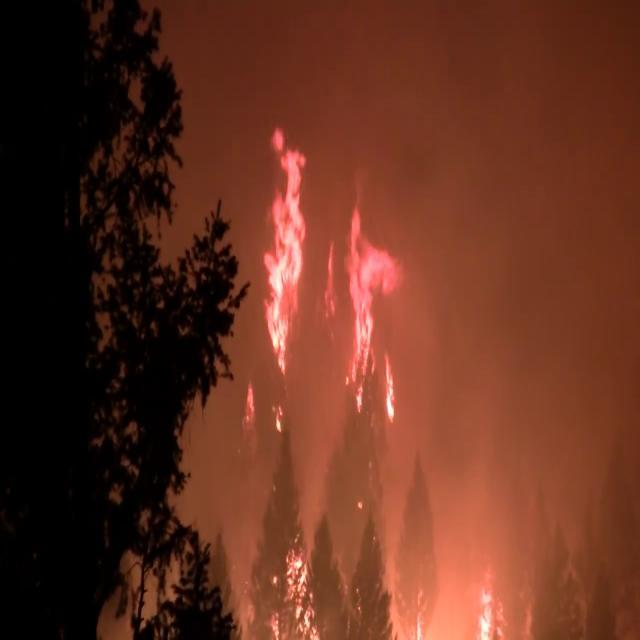Fire: (340, 194, 402, 427), (256, 126, 312, 370)
Smoke: (170, 1, 640, 556)
